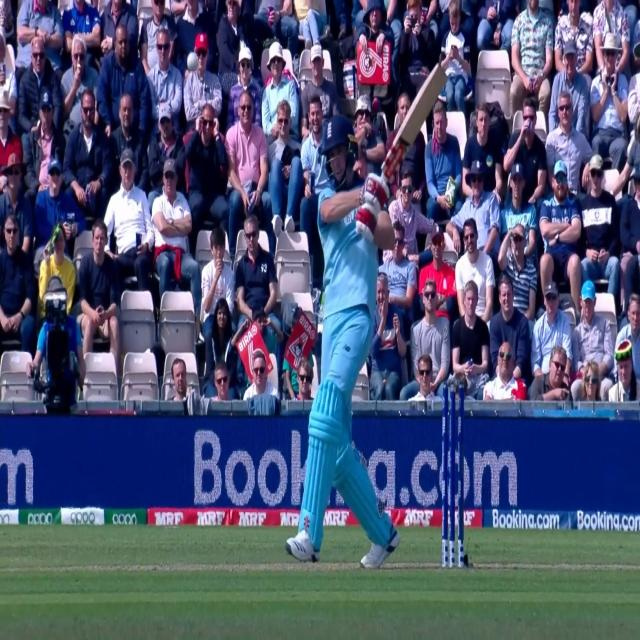ball: (186, 51, 200, 71)
